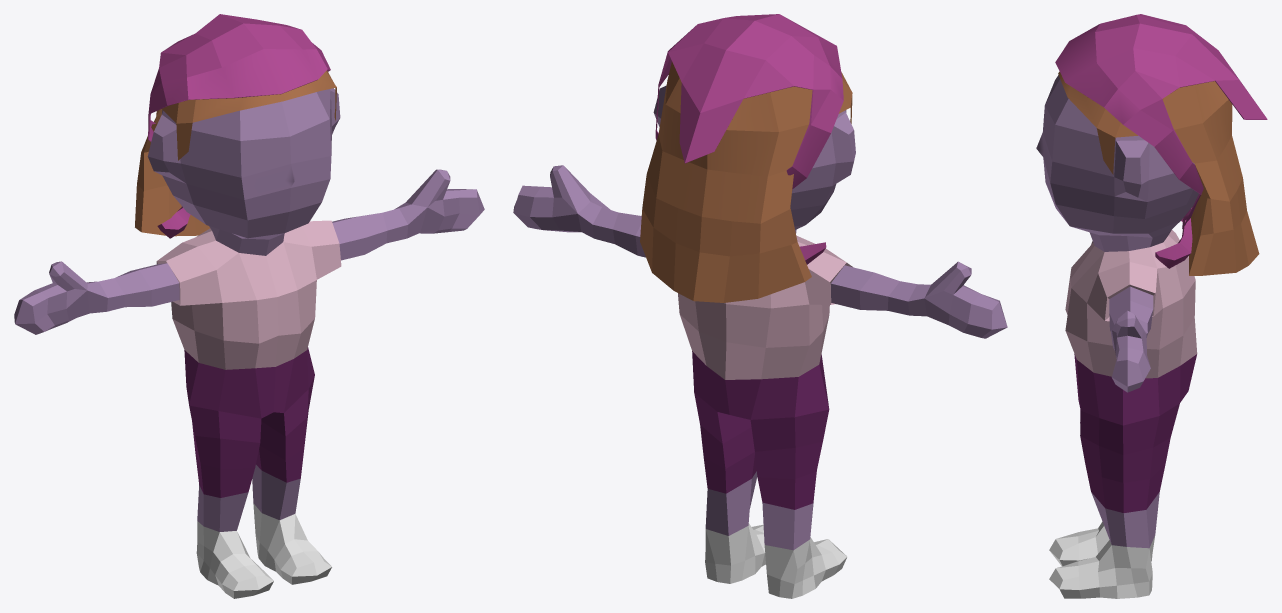
File: Mom.fbx
3 views of the same model, side by side, from view 1: azimuth 30°, elevation 25°; view 2: azimuth 150°, elevation 25°; view 3: azimuth 270°, elevation 25° (orthographic). The views are drawn at different scales.
Visible parts, largest first — view 1: Mom_Bod, Mom_Bandana, Mom_Hair; view 2: Mom_Bod, Mom_Hair, Mom_Bandana; view 3: Mom_Bod, Mom_Bandana, Mom_Hair.
Part boxes in pixels (x1=…): Mom_Bod: x1=14, y1=88, x2=484, y2=598; Mom_Bandana: x1=148, y1=14, x2=330, y2=238; Mom_Hair: x1=135, y1=70, x2=336, y2=236; Mom_Bod: x1=513, y1=85, x2=1007, y2=598; Mom_Hair: x1=640, y1=61, x2=852, y2=302; Mom_Bandana: x1=655, y1=14, x2=843, y2=264; Mom_Bod: x1=1036, y1=75, x2=1198, y2=598; Mom_Bandana: x1=1055, y1=14, x2=1267, y2=268; Mom_Hair: x1=1058, y1=71, x2=1259, y2=275.
Bounding box in the file's own units: 3.55 × 3.88 × 1.47.
